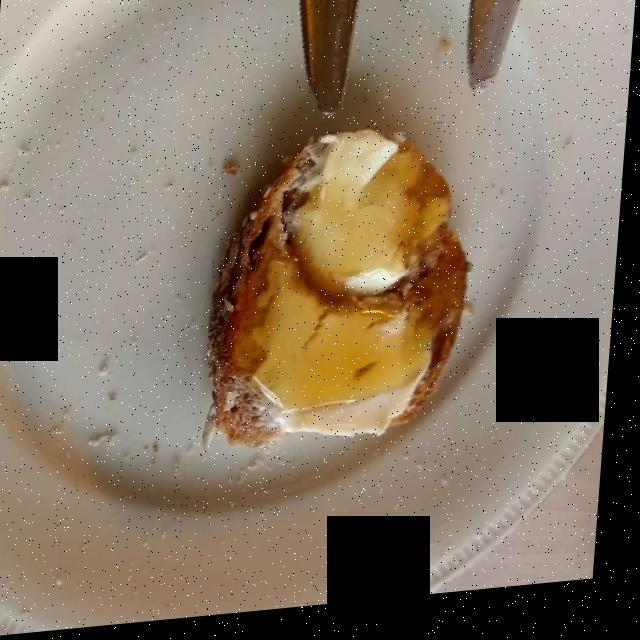bread: (217, 135, 470, 447)
butter: (286, 142, 431, 439)
honey: (278, 192, 423, 405)
